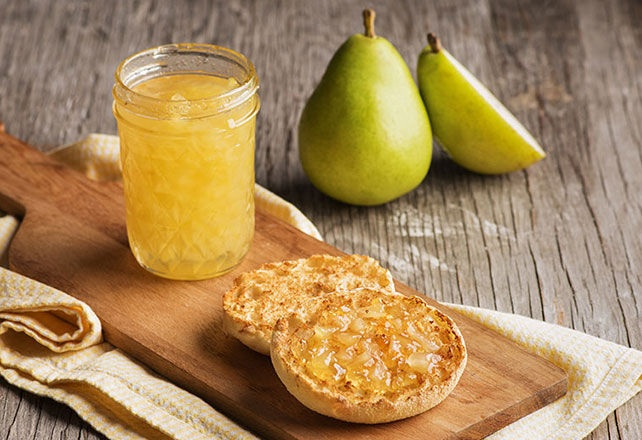background: (221, 118, 468, 292), (252, 6, 549, 141), (114, 51, 261, 193)
